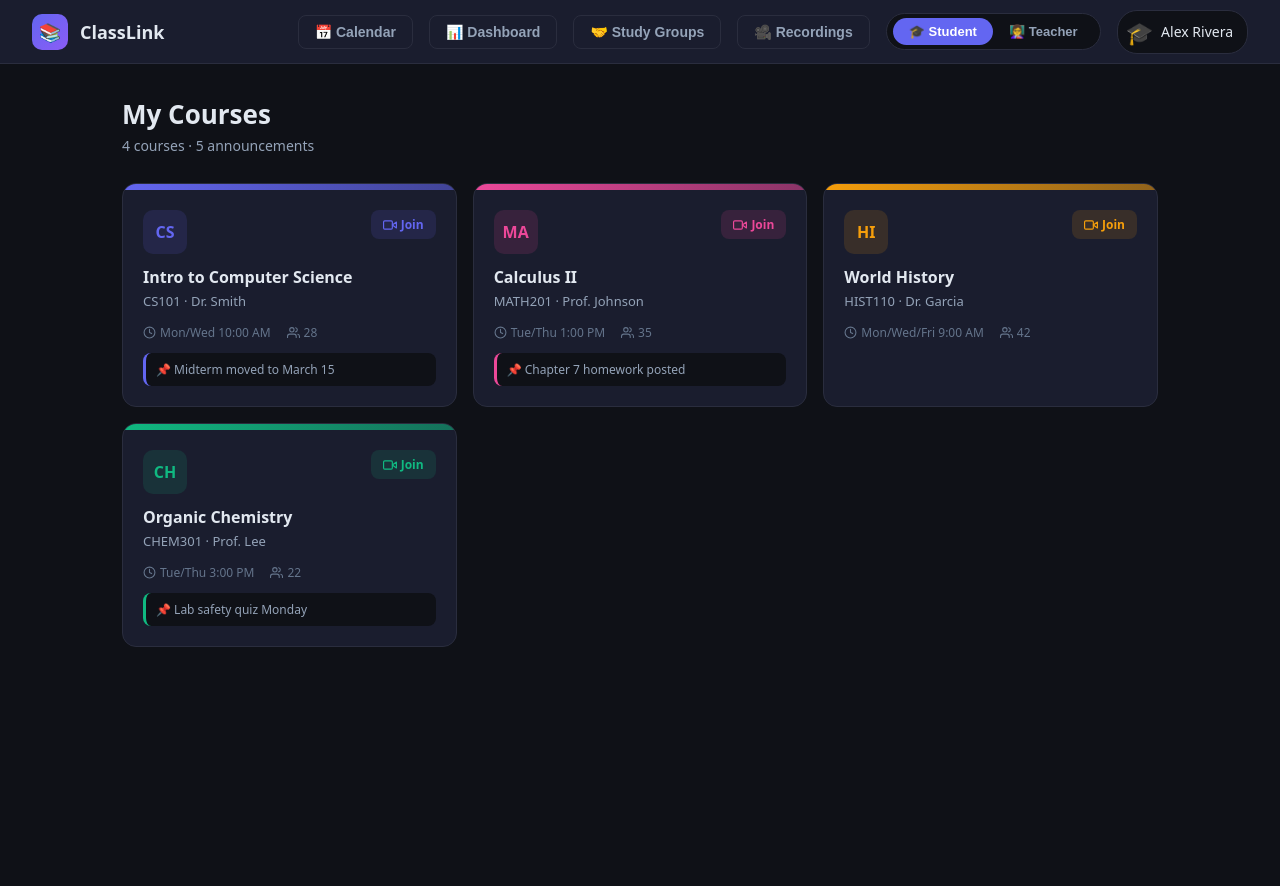
Test case: App component › course filter dropdown limits to selected course
Click the button "🎥 Recordings": (804, 32) [737,14,870,48]
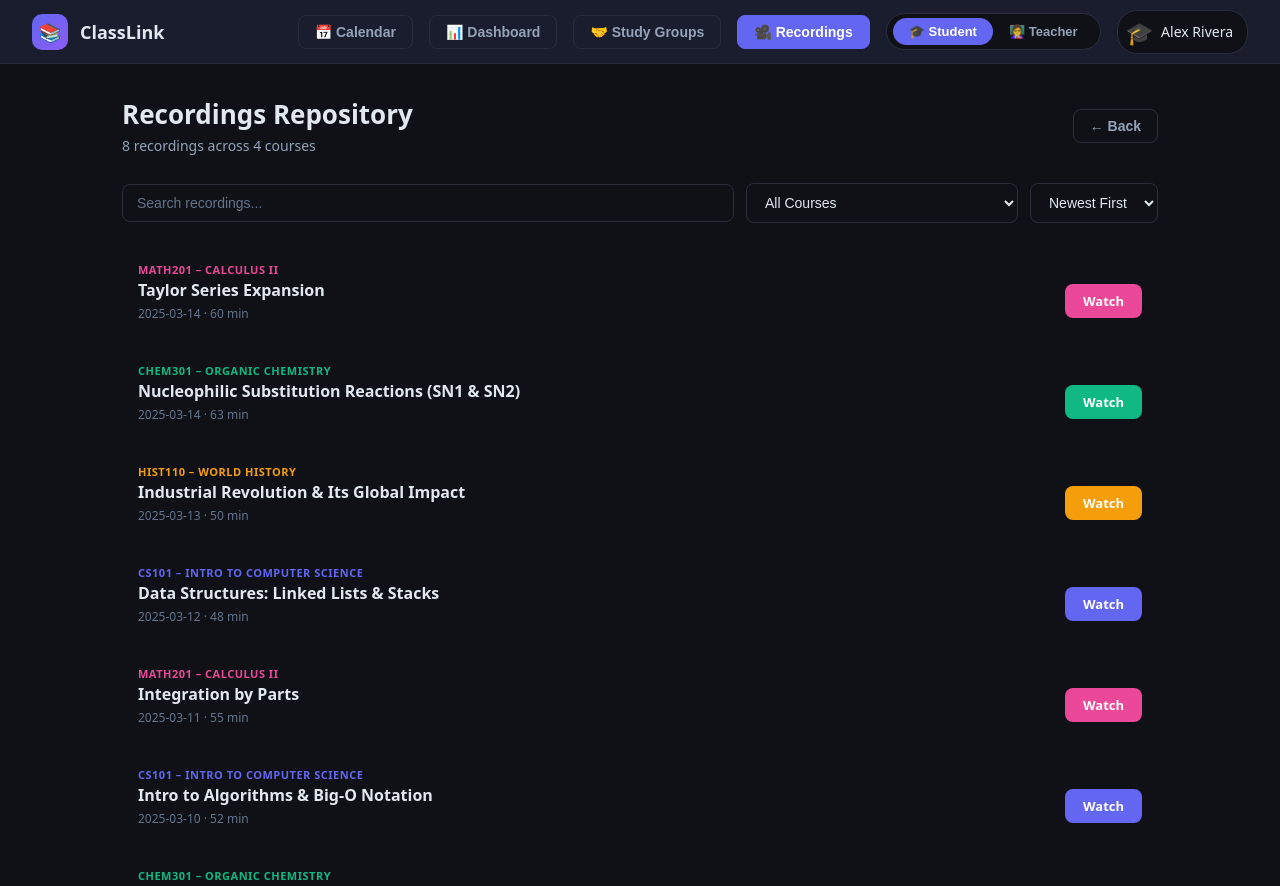
Select "CS101 – Intro to Computer Science" in the 1st dropdown showing "All Courses": (882, 203) [746,183,1018,223]
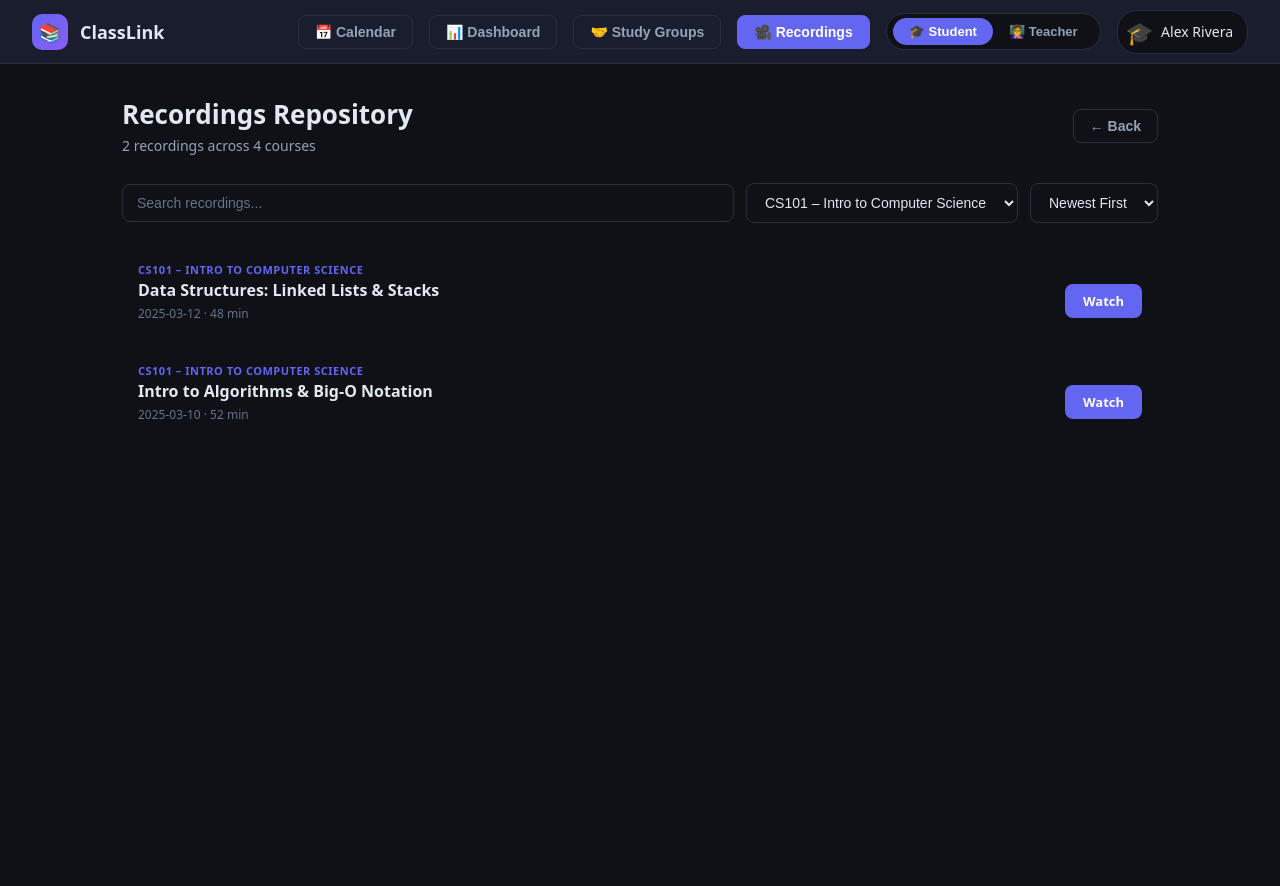
Check: the text "Intro to Algorithms & Big-O Notation" is shown, box [138,380,433,402]
Check: the text "Data Structures: Linked Lists & Stacks" is shown, box [138,279,439,301]
Check: the text "Integration by Parts" is gone
